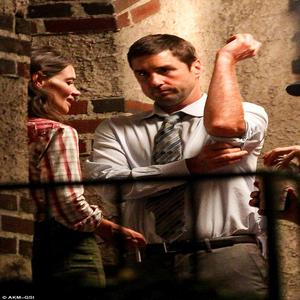cigarette: (135, 237, 143, 263)
